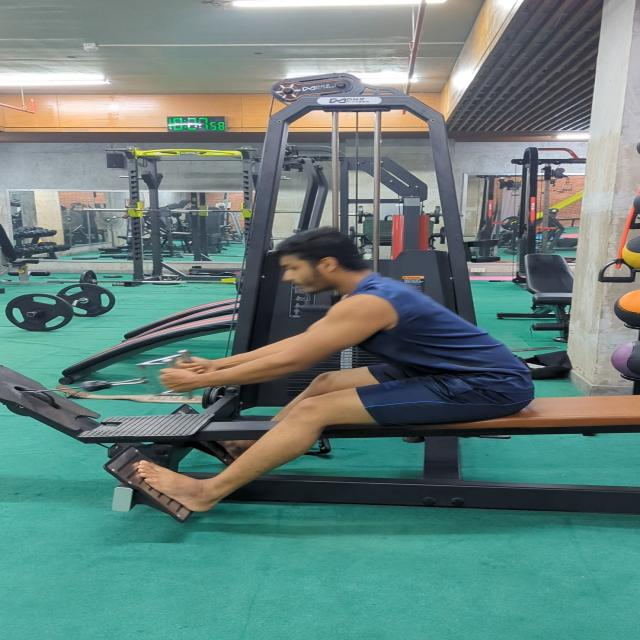Normal_RowingMachineExercise: (130, 227, 540, 515)
